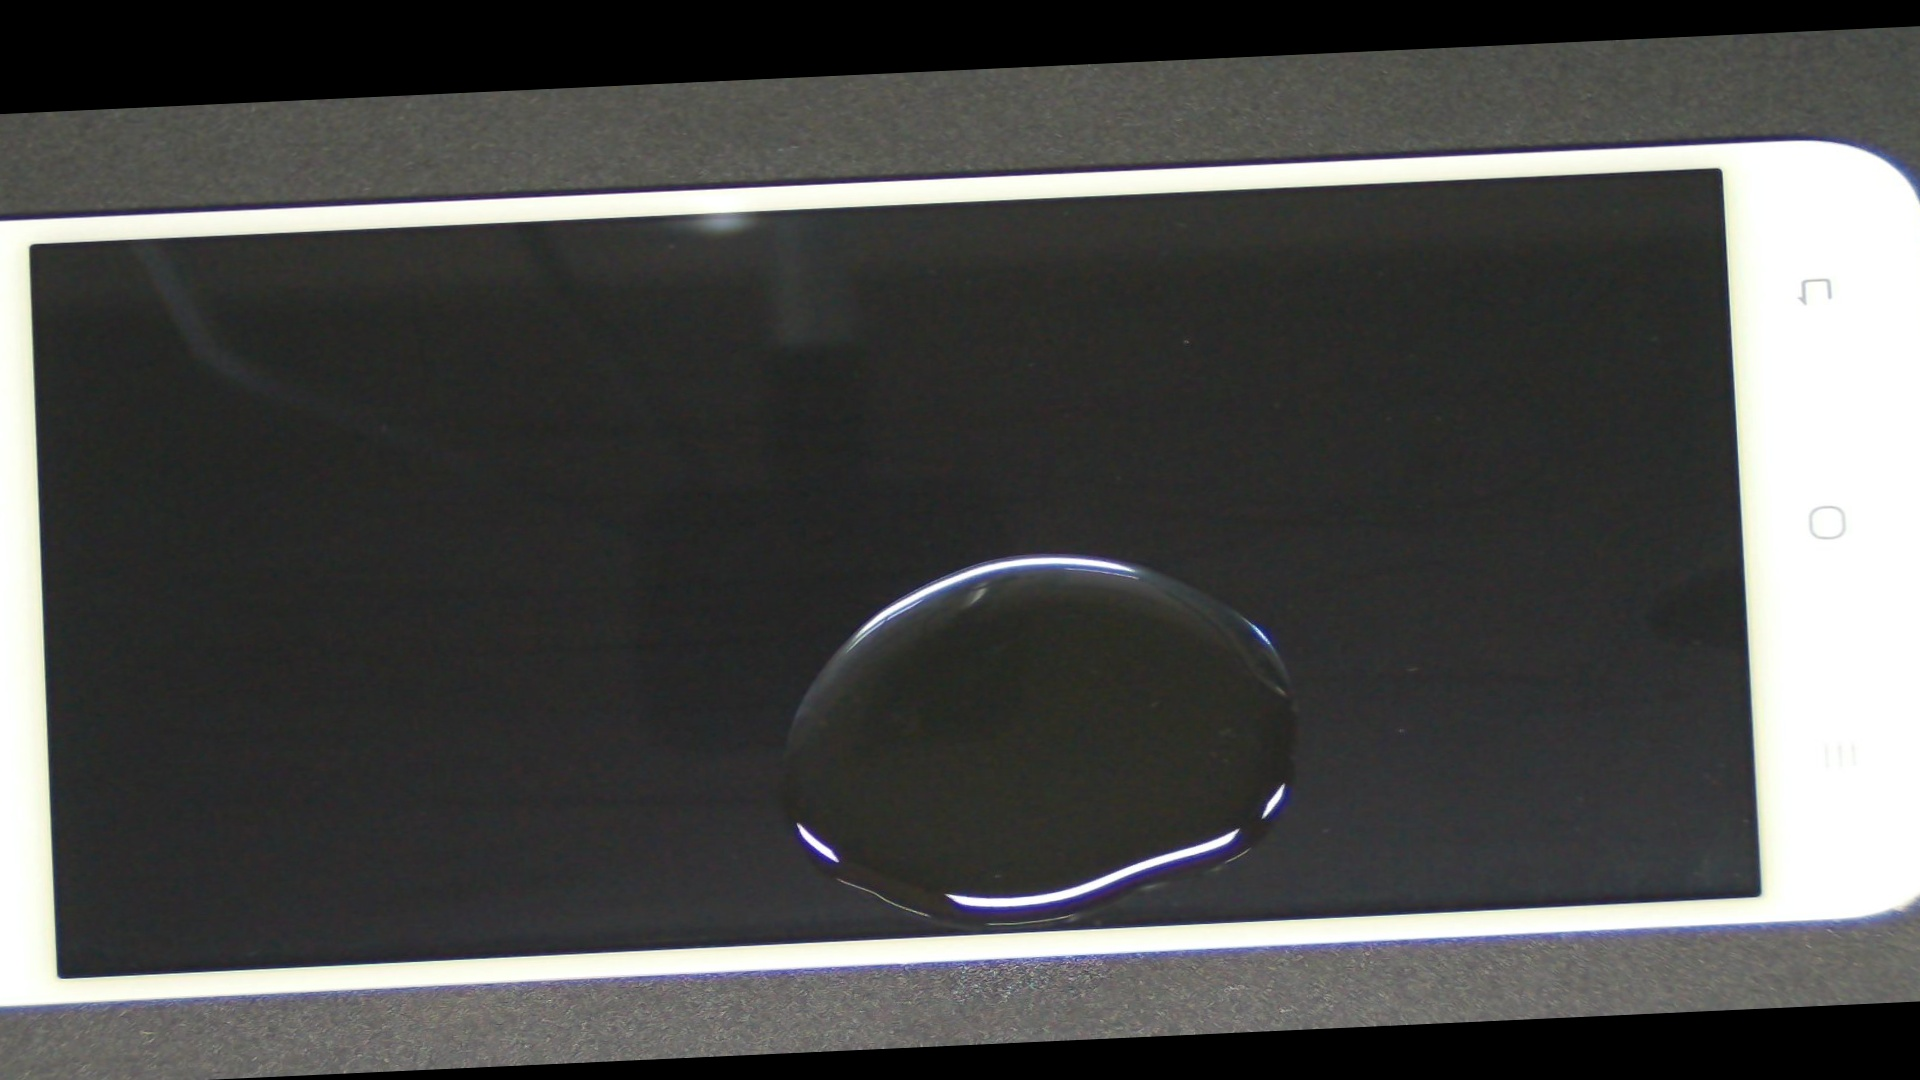oil: (382, 282, 1672, 828)
